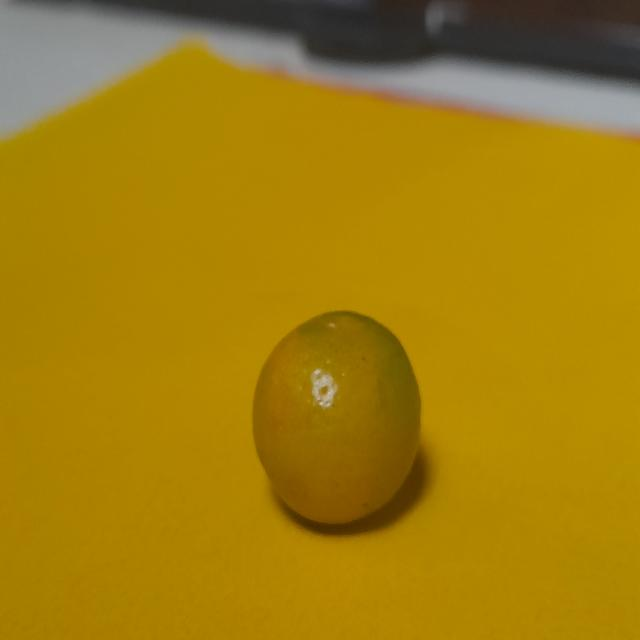greening: (238, 303, 431, 542)
